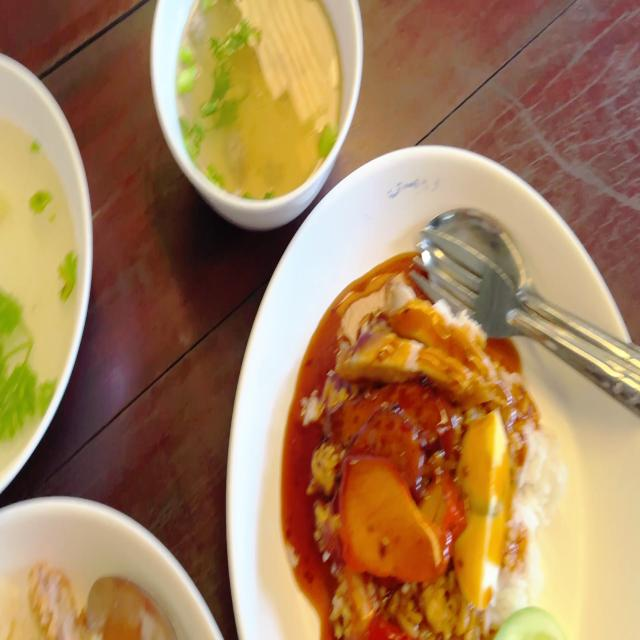boiled_egg: (457, 408, 508, 602)
chainese_sausage: (331, 377, 455, 476)
crispy_pork: (340, 292, 494, 394)
cucumber: (491, 602, 567, 640)
red_pork: (342, 451, 463, 576)
red_pork_and_crispy_pork: (307, 290, 565, 640)
